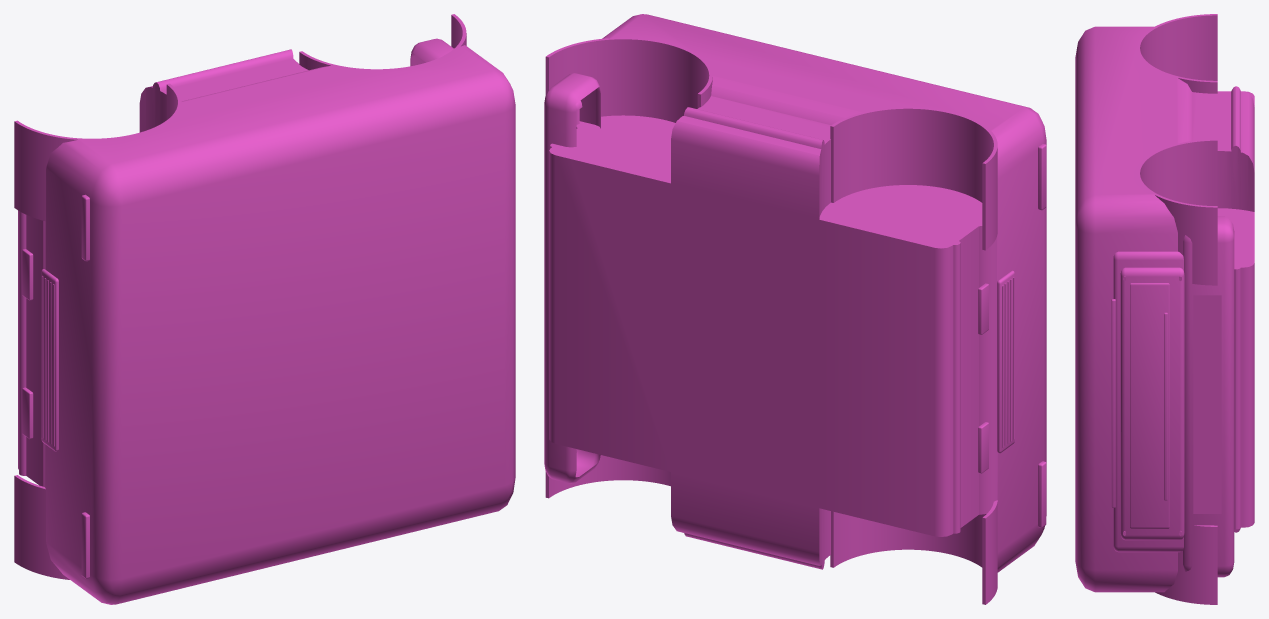
Rendered from ax_body.obj.
3 renders of one model, left to right at view 1: azimuth 30°, elevation 25°; view 2: azimuth 150°, elevation 25°; view 3: azimuth 270°, elevation 25°, orthographic. The views are drawn at different scales.
Visible parts, largest first — view 1: AX_2_Body; view 2: AX_2_Body; view 3: AX_2_Body.
Boxes of the visible parts, x1,y1,x2,y2 form: AX_2_Body: (14, 14, 515, 604); AX_2_Body: (544, 14, 1046, 604); AX_2_Body: (1075, 14, 1254, 604).
Bounding box in the file's own units: 1043 × 996 × 406.
